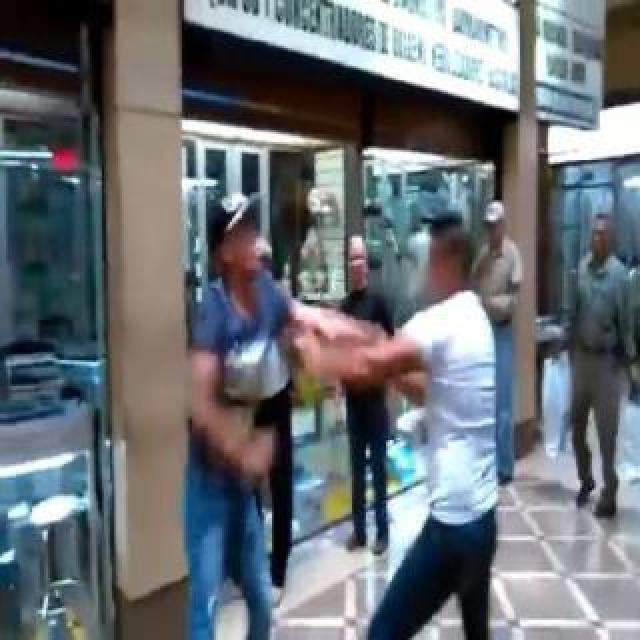fight: (170, 193, 512, 637)
